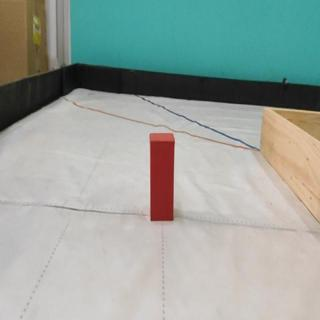redbox: (149, 131, 174, 221)
